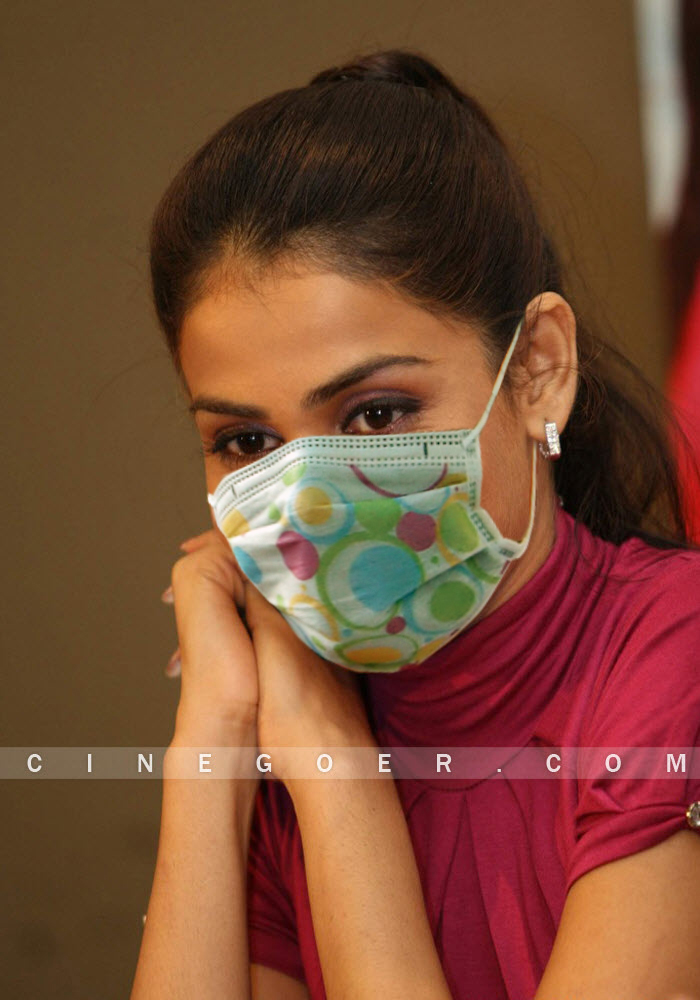mask: (204, 466, 525, 671)
